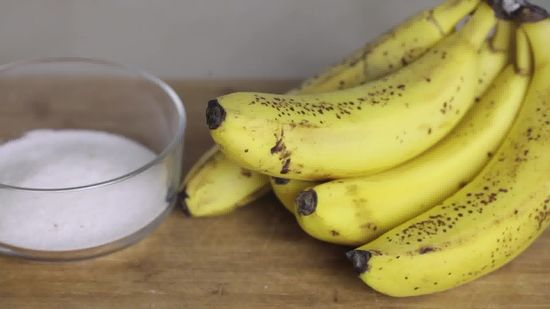banana: (347, 63, 550, 300), (195, 35, 476, 166), (147, 145, 263, 224)
